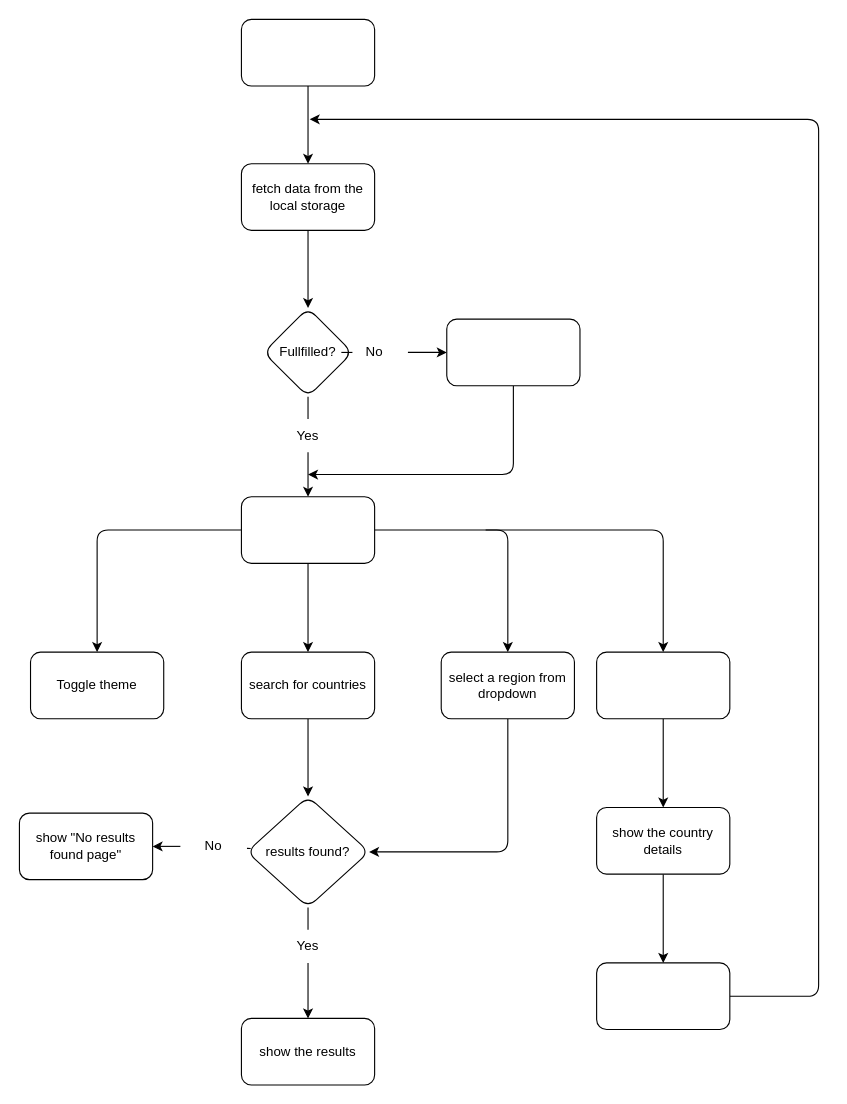
Some shapes in this 847 by 1104 pixel diagram are drawn without their labels. The shapes that lost their labels are listed below. From the top down, each one's centre as x and y in pixels, then its label:
pixel 307 52: start
pixel 513 352: Fetch data from API and save to Local storage
pixel 307 529: render countries list
pixel 663 685: choose country from the list
pixel 663 996: click Back button
